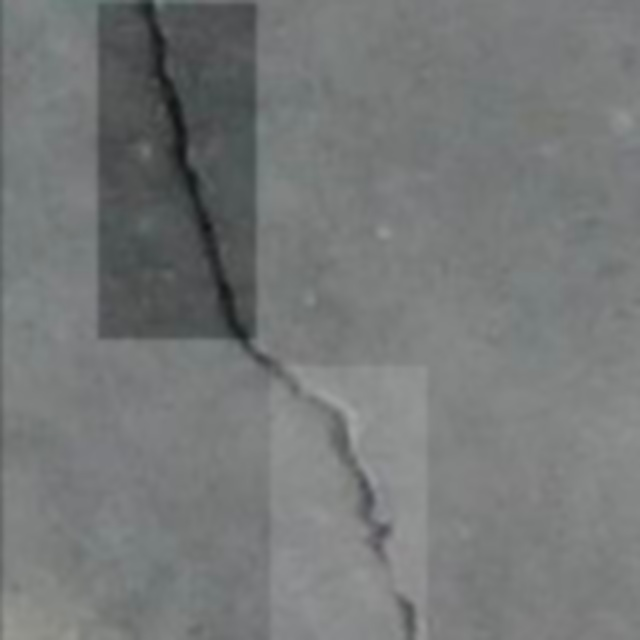SurfaceCrack: (104, 0, 422, 640)
